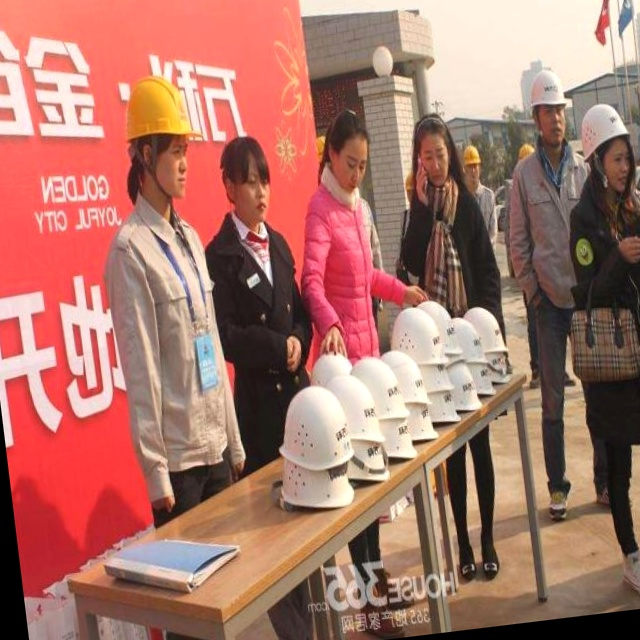Con_Casco: (119, 77, 198, 202)
Sin_Casco_Mascarrilla: (214, 136, 274, 226), (317, 110, 376, 200)
Sin_Chaleco: (107, 217, 228, 476)
